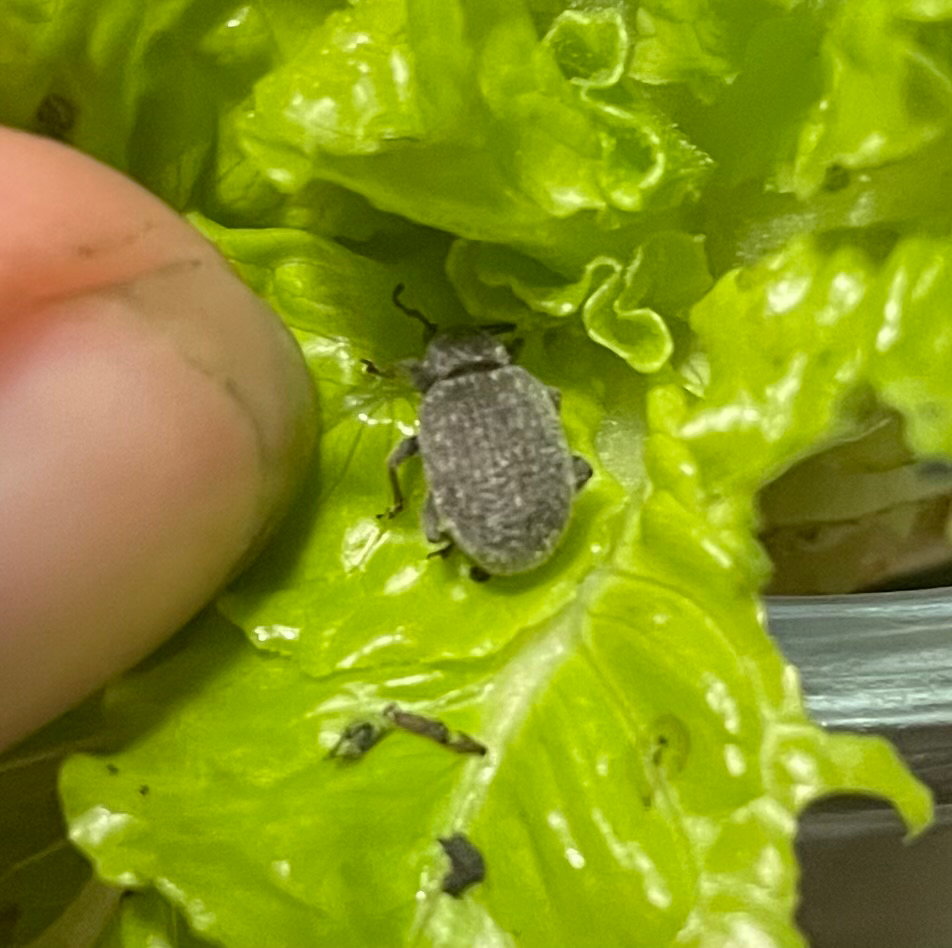weevils: (289, 234, 681, 642)
